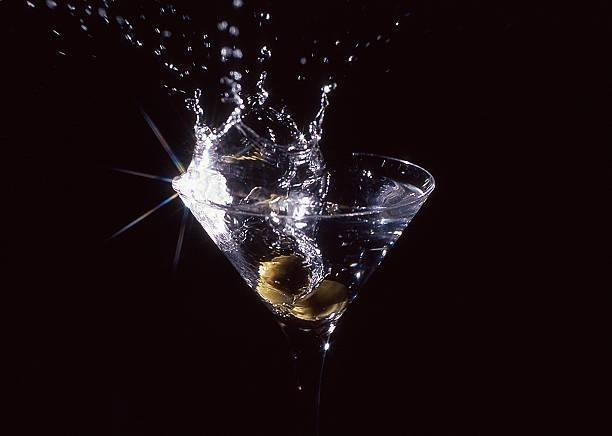glass-wine: (170, 148, 437, 436)
